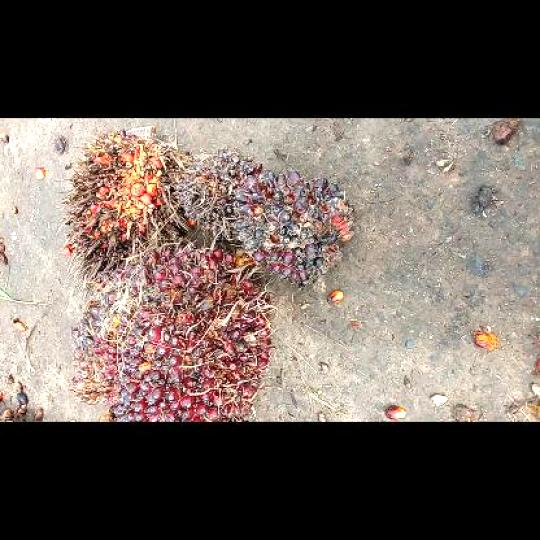masak: (68, 238, 275, 421)
terlalu masak: (56, 123, 196, 302)
